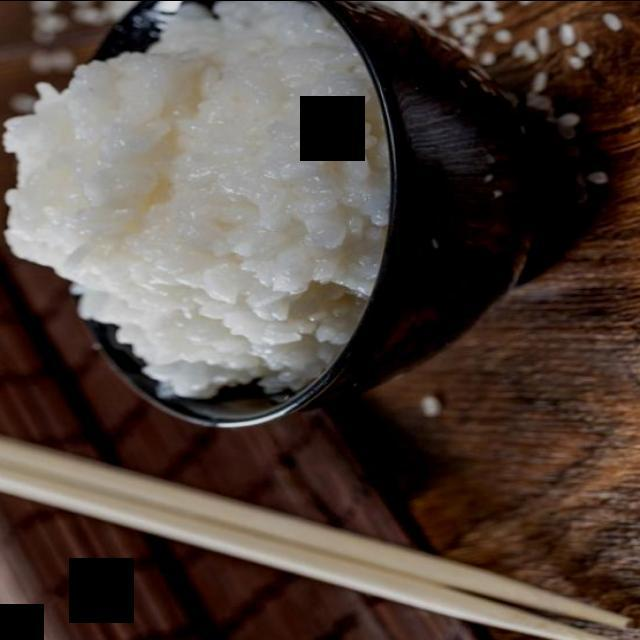rice: (0, 0, 391, 398)
